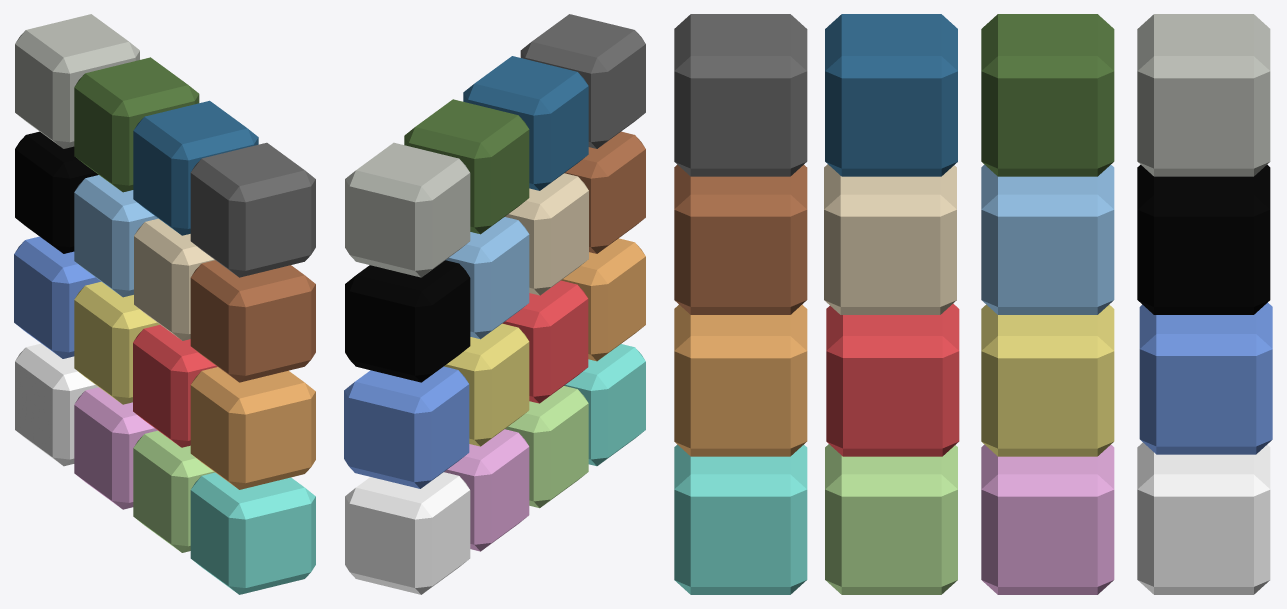
Rendered from sandboxbloxks.fbx.
The picture shows the model from 3 angles, left to right: view 1: azimuth 30°, elevation 25°; view 2: azimuth 150°, elevation 25°; view 3: azimuth 270°, elevation 25°; orthographic projection. The views are drawn at different scales.
Visible parts, largest first — view 1: Gray, Orange.001, Light Blue, Brown, Dark Green, Light Gray, Dark Blue, Purple, White, Gold, Blue, Black (+4 smaller); view 2: Light Gray, Purple, White, Black, Dark Green, Dark Blue, Gray, Gold, Red, Pink.001, Cream, Blue (+4 smaller); view 3: Light Gray, Dark Green, Gray, Dark Blue, Gold, Orange.001, Red, White, Purple, Black, Blue, Brown (+4 smaller).
Part boxes in pixels (x1,y1,x2,y2): Gray: (190,142,315,277); Orange.001: (190,367,315,489); Light Blue: (190,472,315,594); Brown: (190,260,315,382); Dark Green: (74,57,199,192); Light Gray: (15,14,139,148); Dark Blue: (133,100,258,235); Purple: (14,236,100,358); White: (15,343,98,466); Gold: (74,281,159,404); Blue: (74,175,158,297); Black: (15,131,98,253); Light Gray: (345,142,470,277); Purple: (344,366,469,488); White: (345,472,470,594); Black: (345,260,470,382); Dark Green: (404,99,529,234); Dark Blue: (463,56,588,190); Gray: (520,14,645,148); Gold: (444,323,529,446); Red: (502,280,588,403); Pink.001: (444,429,529,551); Cream: (505,173,588,295); Blue: (445,217,529,339); Light Gray: (1137,14,1270,176); Dark Green: (981,14,1114,176); Gray: (674,14,807,176); Dark Blue: (825,14,957,176); Gold: (981,304,1114,456); Orange.001: (674,304,807,456); Red: (826,303,959,456); White: (1137,442,1270,594); Purple: (1139,302,1272,454); Black: (1137,164,1270,314); Blue: (981,164,1114,314); Brown: (674,164,807,314).
Bounding box in the file's own units: 56.32 × 251 × 253.
